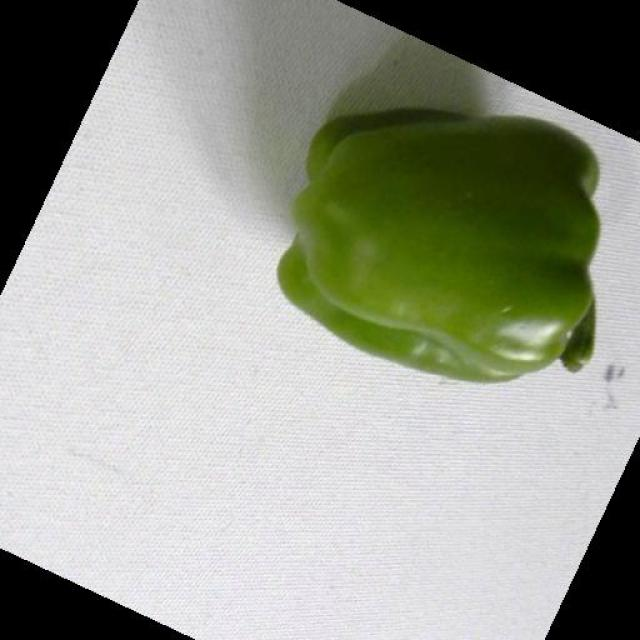Fresh_Capsicum: (252, 90, 607, 398)
